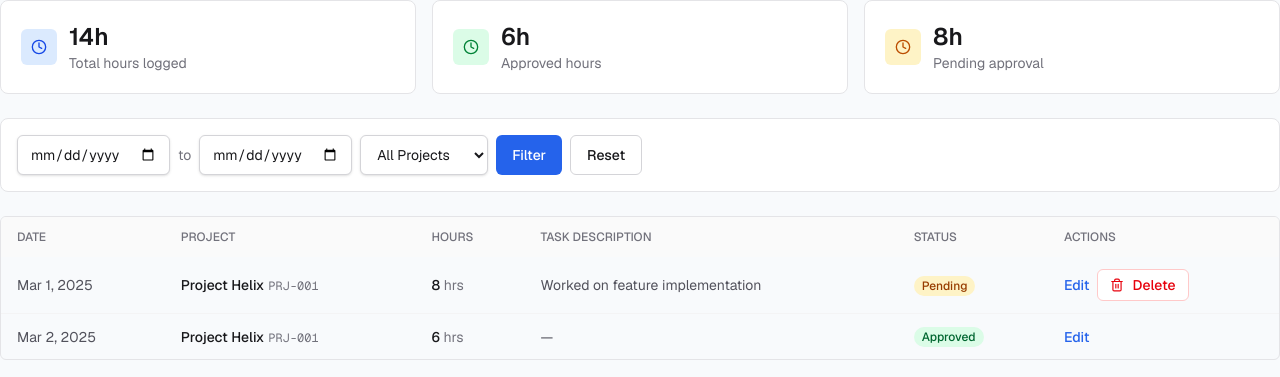
Test: TimesheetHistoryTable › applies a date-range filter to only show matching entries
Type "2025-03-02" into the 1st date field named "From".
click(94, 155); type("2025-03-02")  # box [17,135,170,175]
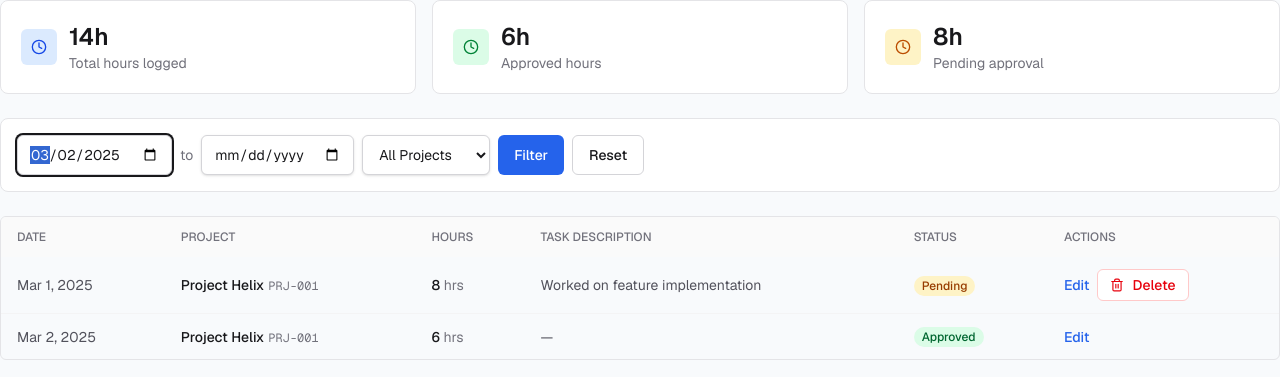
Type "2025-03-02" into the 2nd date field named "To".
click(278, 155); type("2025-03-02")  # box [201,135,354,175]
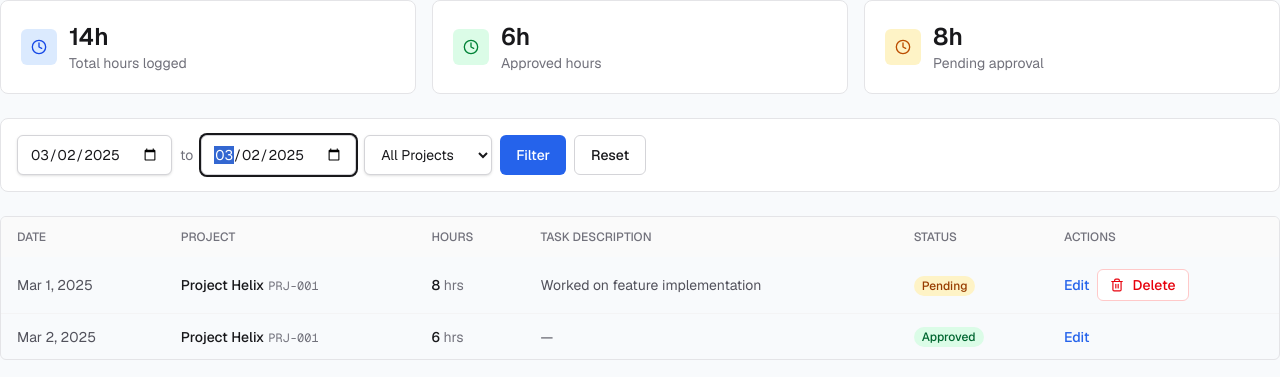
Click the button "Filter".
click(533, 155)  # box [500,135,566,175]
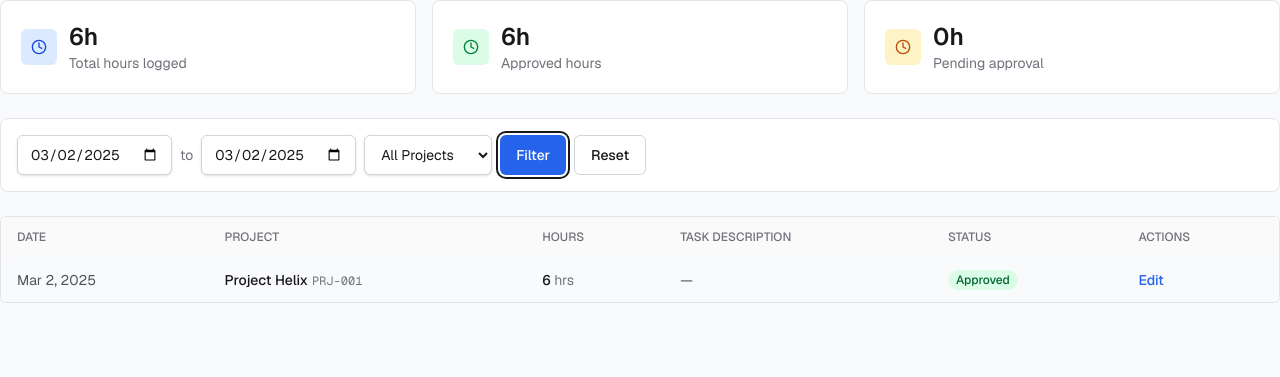
Result: the number of rows is 2 at [1,217,1279,257]; [1,257,1279,302]
Result: the number of links "Edit" is 1 at [1138,270,1164,290]
